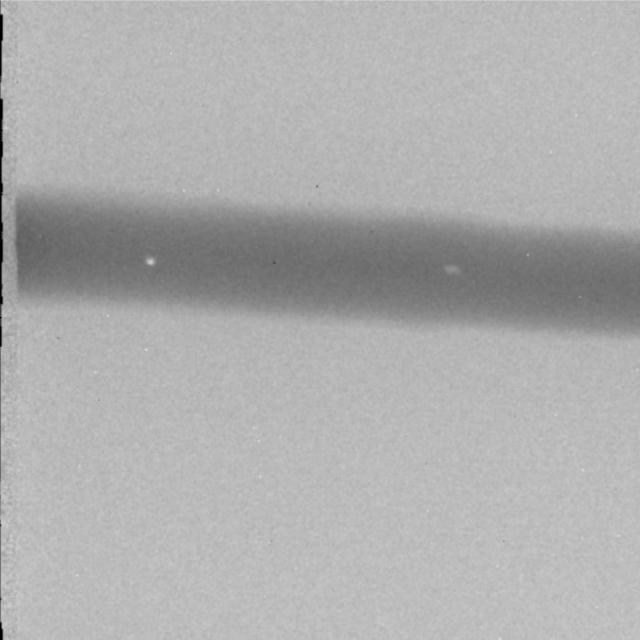air hole: (440, 261, 464, 278), (144, 255, 156, 269)
